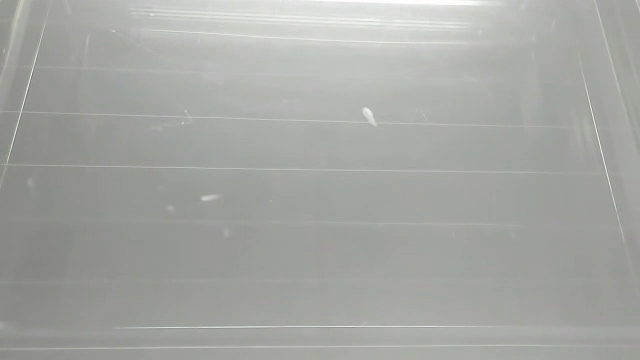alpha: (358, 104, 381, 129), (196, 189, 225, 206)
